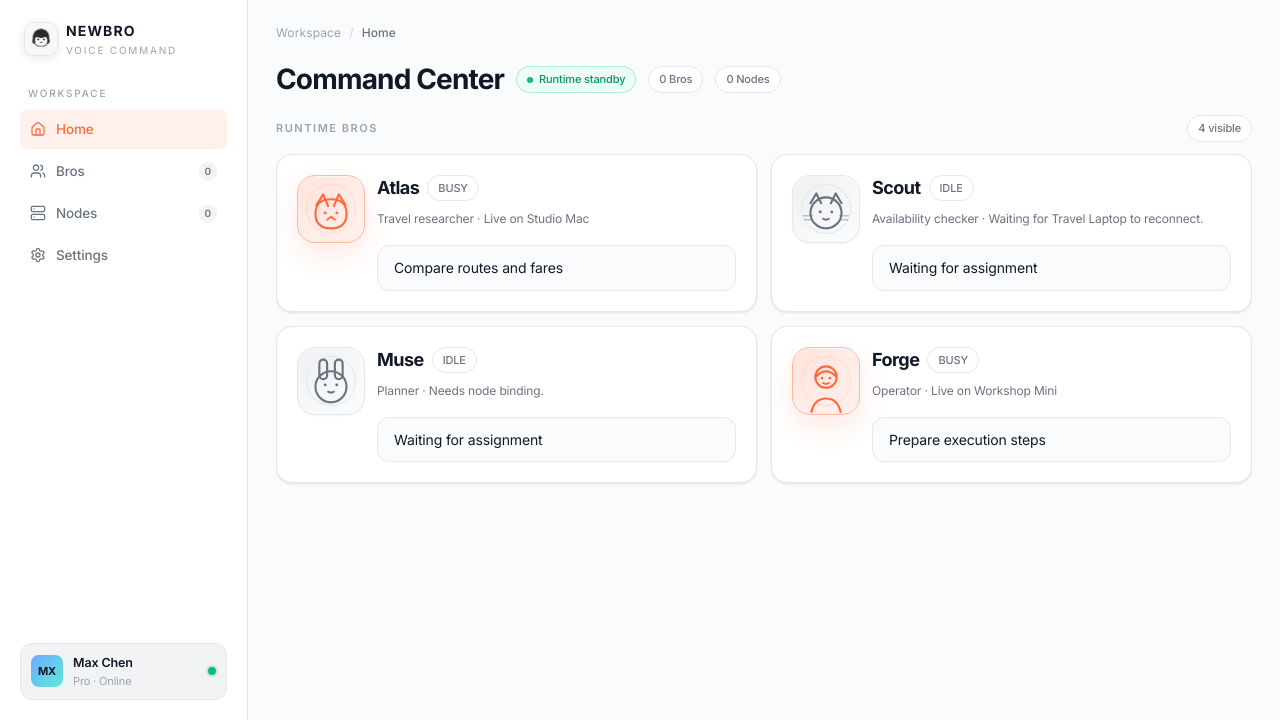
it: Newbro voice shell › opens a Bro detail page when a Home card is clicked
Click the button with test id "bro-card-atlas" at (331, 209), box [276, 154, 757, 312]
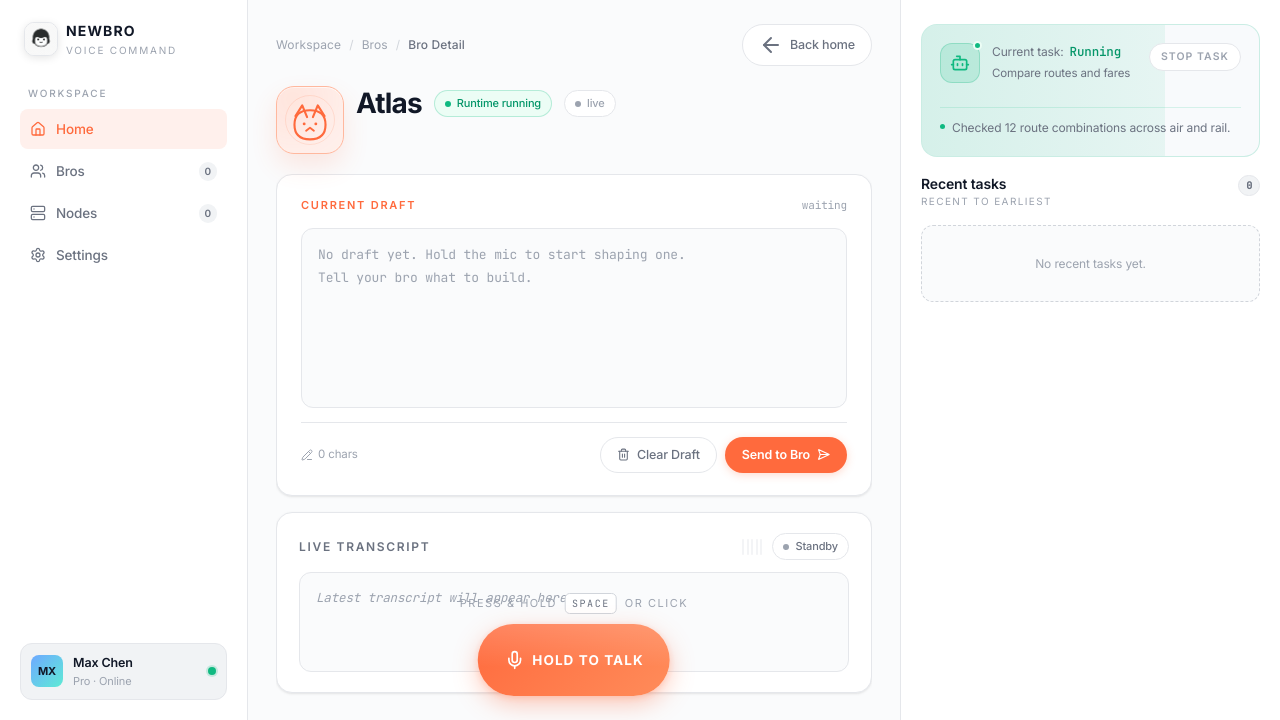
Result: the heading "Atlas" is shown at [356, 88, 422, 119]
